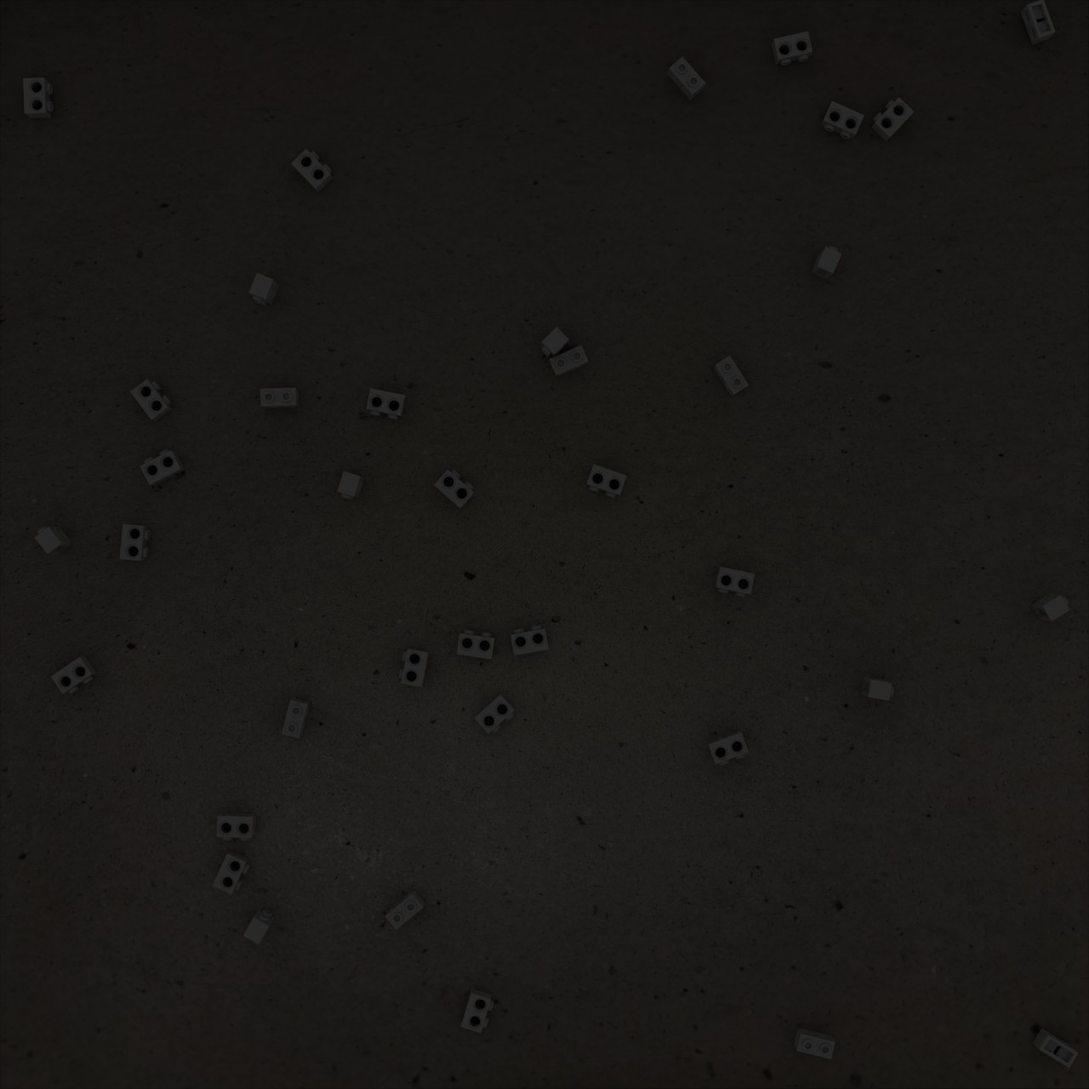lego: (871, 97, 914, 142), (1032, 1028, 1079, 1068), (291, 149, 333, 193), (51, 655, 97, 694), (130, 379, 172, 421), (667, 56, 706, 101), (212, 850, 250, 895), (474, 693, 515, 734), (820, 101, 864, 139), (140, 449, 185, 486), (385, 889, 425, 930), (434, 469, 475, 509), (1020, 0, 1056, 45), (713, 355, 749, 397), (707, 730, 749, 766), (461, 988, 494, 1033), (771, 31, 813, 66), (586, 464, 627, 498), (793, 1027, 835, 1059), (549, 345, 589, 378), (366, 388, 406, 420), (714, 566, 755, 597), (399, 648, 430, 687), (510, 625, 549, 656), (23, 78, 53, 118), (282, 698, 311, 738), (243, 909, 275, 945), (119, 524, 150, 561), (457, 630, 495, 659), (217, 813, 256, 841), (34, 526, 73, 554), (1031, 594, 1070, 621), (249, 273, 280, 306), (811, 246, 842, 279), (541, 327, 569, 359), (861, 676, 894, 701), (337, 471, 365, 500), (260, 388, 299, 408)
